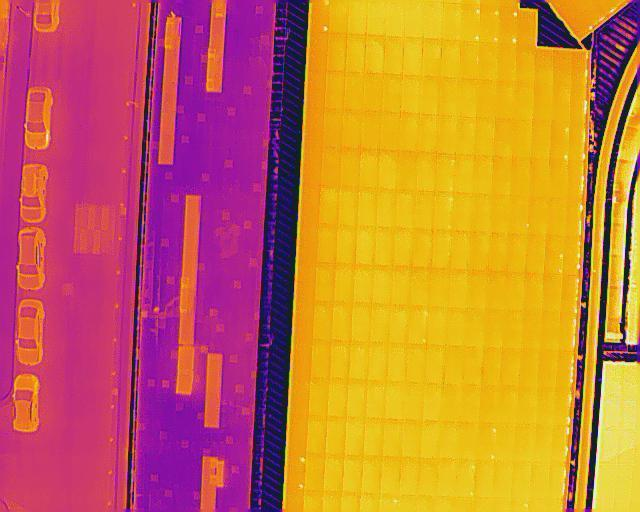Cell: (310, 1, 328, 32)
Cell-Multi: (550, 119, 569, 160), (476, 424, 498, 459), (480, 8, 501, 44), (288, 450, 307, 489), (545, 236, 564, 274), (456, 459, 475, 497), (556, 349, 574, 387), (499, 10, 518, 45), (563, 236, 580, 274), (561, 274, 578, 311), (461, 8, 479, 42)
No-Anomaly: (436, 78, 459, 116), (314, 263, 335, 303), (374, 227, 395, 267), (336, 224, 357, 264), (531, 120, 552, 160), (364, 36, 386, 74), (326, 33, 348, 71), (436, 116, 458, 154), (399, 113, 421, 151), (407, 305, 428, 344), (449, 269, 470, 308), (434, 191, 455, 230), (396, 189, 417, 228), (418, 458, 439, 497), (383, 37, 405, 74), (387, 342, 407, 382), (488, 232, 508, 272), (431, 229, 451, 269), (356, 226, 376, 266), (317, 223, 337, 263), (378, 150, 398, 190), (359, 149, 379, 189), (381, 456, 401, 496), (507, 234, 528, 272), (345, 34, 366, 72), (308, 32, 329, 70), (498, 386, 519, 424), (327, 379, 348, 417), (323, 454, 344, 492), (476, 80, 497, 118), (420, 77, 441, 115), (343, 72, 364, 110), (367, 342, 387, 381), (311, 340, 331, 379), (540, 311, 560, 350), (334, 264, 354, 303), (297, 263, 317, 302), (526, 234, 546, 273), (451, 231, 471, 270), (413, 229, 433, 268), (491, 195, 511, 234), (454, 192, 474, 231), (480, 386, 500, 425), (301, 185, 321, 224), (510, 158, 530, 197), (397, 151, 417, 190), (456, 116, 476, 155), (323, 109, 343, 148), (403, 38, 424, 75), (421, 421, 442, 458), (383, 419, 404, 456), (377, 190, 398, 227), (357, 189, 378, 226), (337, 188, 358, 225), (319, 187, 340, 224), (342, 112, 363, 149), (443, 346, 463, 384), (292, 340, 312, 378), (447, 308, 467, 346), (542, 274, 562, 312), (486, 272, 506, 310), (372, 266, 392, 304), (415, 191, 435, 229), (422, 39, 442, 77), (364, 419, 384, 457), (345, 418, 365, 456), (518, 386, 537, 426), (423, 383, 443, 421), (403, 383, 423, 421), (530, 160, 550, 198), (455, 154, 475, 192), (417, 153, 437, 191), (321, 148, 341, 186), (494, 119, 514, 157), (475, 118, 495, 156), (419, 114, 439, 152), (381, 112, 401, 150), (495, 81, 515, 119), (382, 74, 402, 112), (363, 74, 383, 112), (326, 417, 347, 453), (325, 72, 346, 108), (406, 344, 425, 383), (521, 311, 540, 350), (371, 303, 390, 342), (352, 303, 371, 342), (391, 266, 410, 305), (547, 197, 566, 236), (500, 348, 519, 387), (463, 347, 482, 386), (474, 155, 493, 194), (341, 148, 360, 187), (485, 310, 505, 347), (428, 308, 448, 345), (332, 304, 352, 341), (410, 268, 430, 305), (533, 424, 553, 461), (441, 422, 461, 459), (442, 385, 462, 422), (365, 381, 385, 418), (309, 378, 329, 415), (362, 456, 382, 493), (361, 112, 381, 149), (305, 453, 325, 490), (514, 82, 534, 119), (401, 77, 422, 112), (425, 345, 444, 383), (349, 342, 368, 380), (331, 341, 350, 379), (504, 310, 523, 348), (466, 309, 485, 347), (314, 303, 333, 341), (524, 272, 543, 310), (505, 272, 524, 310), (430, 269, 449, 307), (394, 228, 413, 266), (510, 197, 529, 235), (529, 197, 548, 235), (472, 194, 491, 232), (459, 422, 478, 460), (385, 382, 404, 420), (347, 379, 366, 417), (481, 347, 500, 385), (512, 461, 531, 499), (493, 157, 512, 195), (436, 154, 455, 192), (513, 120, 532, 158), (471, 231, 489, 271), (307, 416, 327, 452), (537, 350, 557, 386), (401, 458, 419, 498), (305, 108, 323, 148), (457, 80, 477, 116), (497, 45, 516, 82), (460, 42, 479, 79), (441, 41, 460, 78), (517, 11, 536, 48), (402, 420, 421, 457), (519, 349, 538, 386), (493, 462, 512, 499), (475, 461, 494, 498), (549, 161, 568, 198), (303, 148, 322, 185), (343, 455, 362, 492), (308, 71, 327, 108), (300, 224, 318, 263), (516, 48, 536, 83), (496, 426, 516, 461), (533, 84, 553, 119), (295, 302, 313, 340), (353, 265, 371, 303), (531, 462, 549, 500), (479, 44, 498, 80), (290, 415, 309, 451), (537, 386, 555, 424), (291, 379, 310, 415), (390, 305, 408, 342), (468, 271, 486, 308), (461, 386, 479, 423), (438, 459, 456, 496), (535, 50, 554, 85), (515, 425, 534, 460), (553, 51, 571, 86), (567, 161, 584, 198), (442, 7, 461, 40), (553, 85, 571, 119), (347, 4, 367, 34), (404, 7, 423, 38), (385, 6, 404, 37), (366, 5, 385, 36), (423, 8, 442, 38), (329, 3, 348, 33)
Unclassified: (569, 119, 586, 161), (550, 424, 569, 461), (565, 197, 583, 236), (553, 386, 571, 424), (549, 461, 566, 499), (571, 50, 588, 86), (559, 312, 575, 350), (569, 87, 587, 120)
